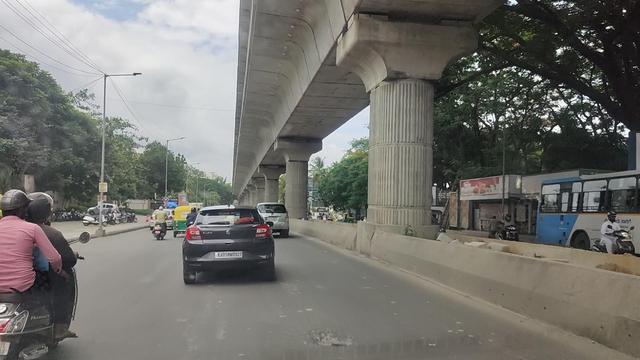LMV: (4, 189, 78, 360), (184, 206, 276, 286), (153, 205, 168, 239)
RoadDamages: (307, 331, 356, 354)
